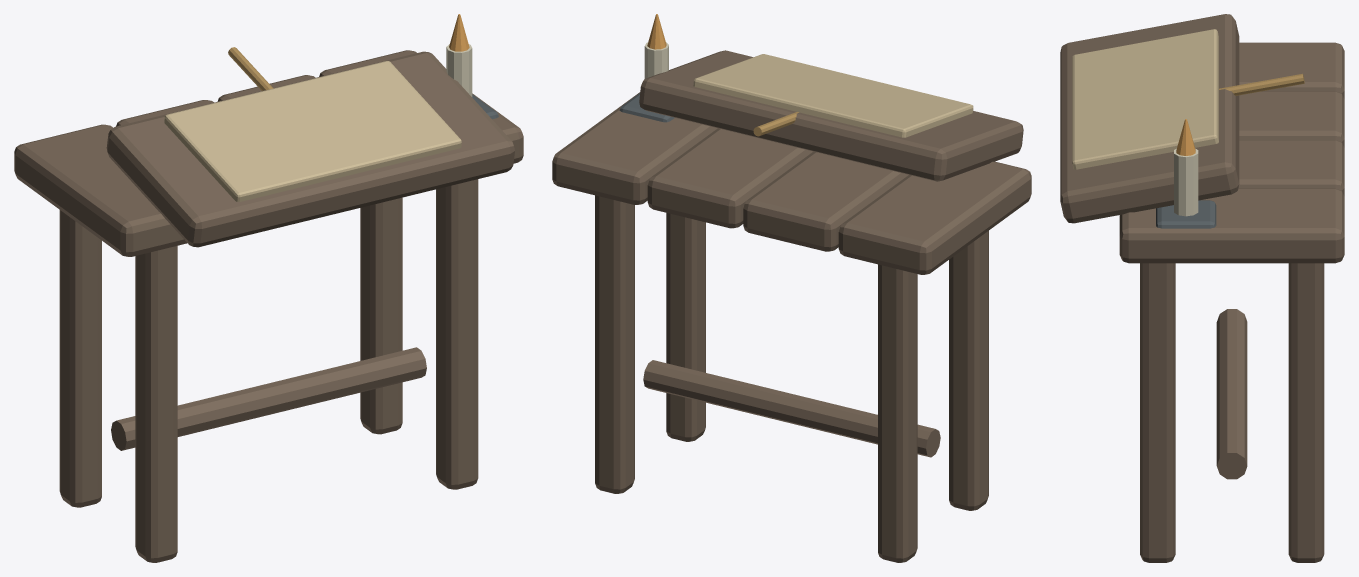
File: archive_lectern.glb
The picture shows the model from 3 angles, left to right: view 1: azimuth 30°, elevation 25°; view 2: azimuth 150°, elevation 25°; view 3: azimuth 270°, elevation 25°; orthographic projection. The views are drawn at different scales.
Visible parts, largest first — view 1: Body.072; view 2: Body.072; view 3: Body.072.
Part boxes in pixels (x1,y1,x2,y2): Body.072: (14,14,523,562); Body.072: (552,14,1031,562); Body.072: (1060,14,1344,562).
Size of the model in its own units: 0.892 by 0.965 by 0.5558.
